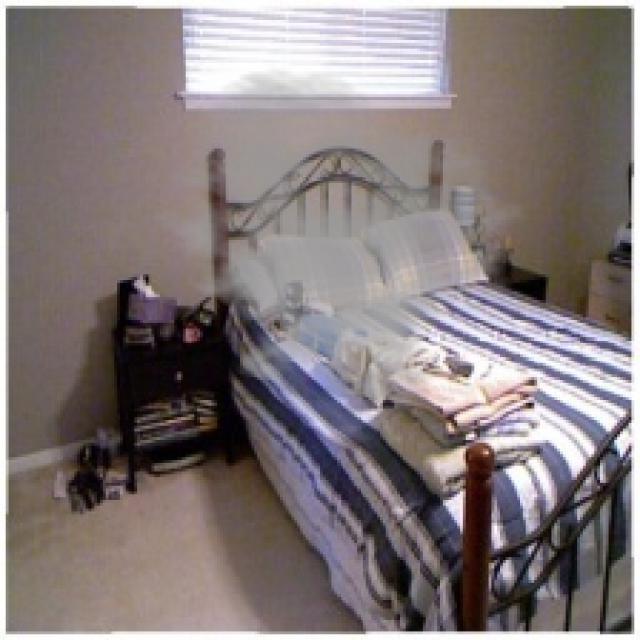smoke: (132, 66, 532, 408)
